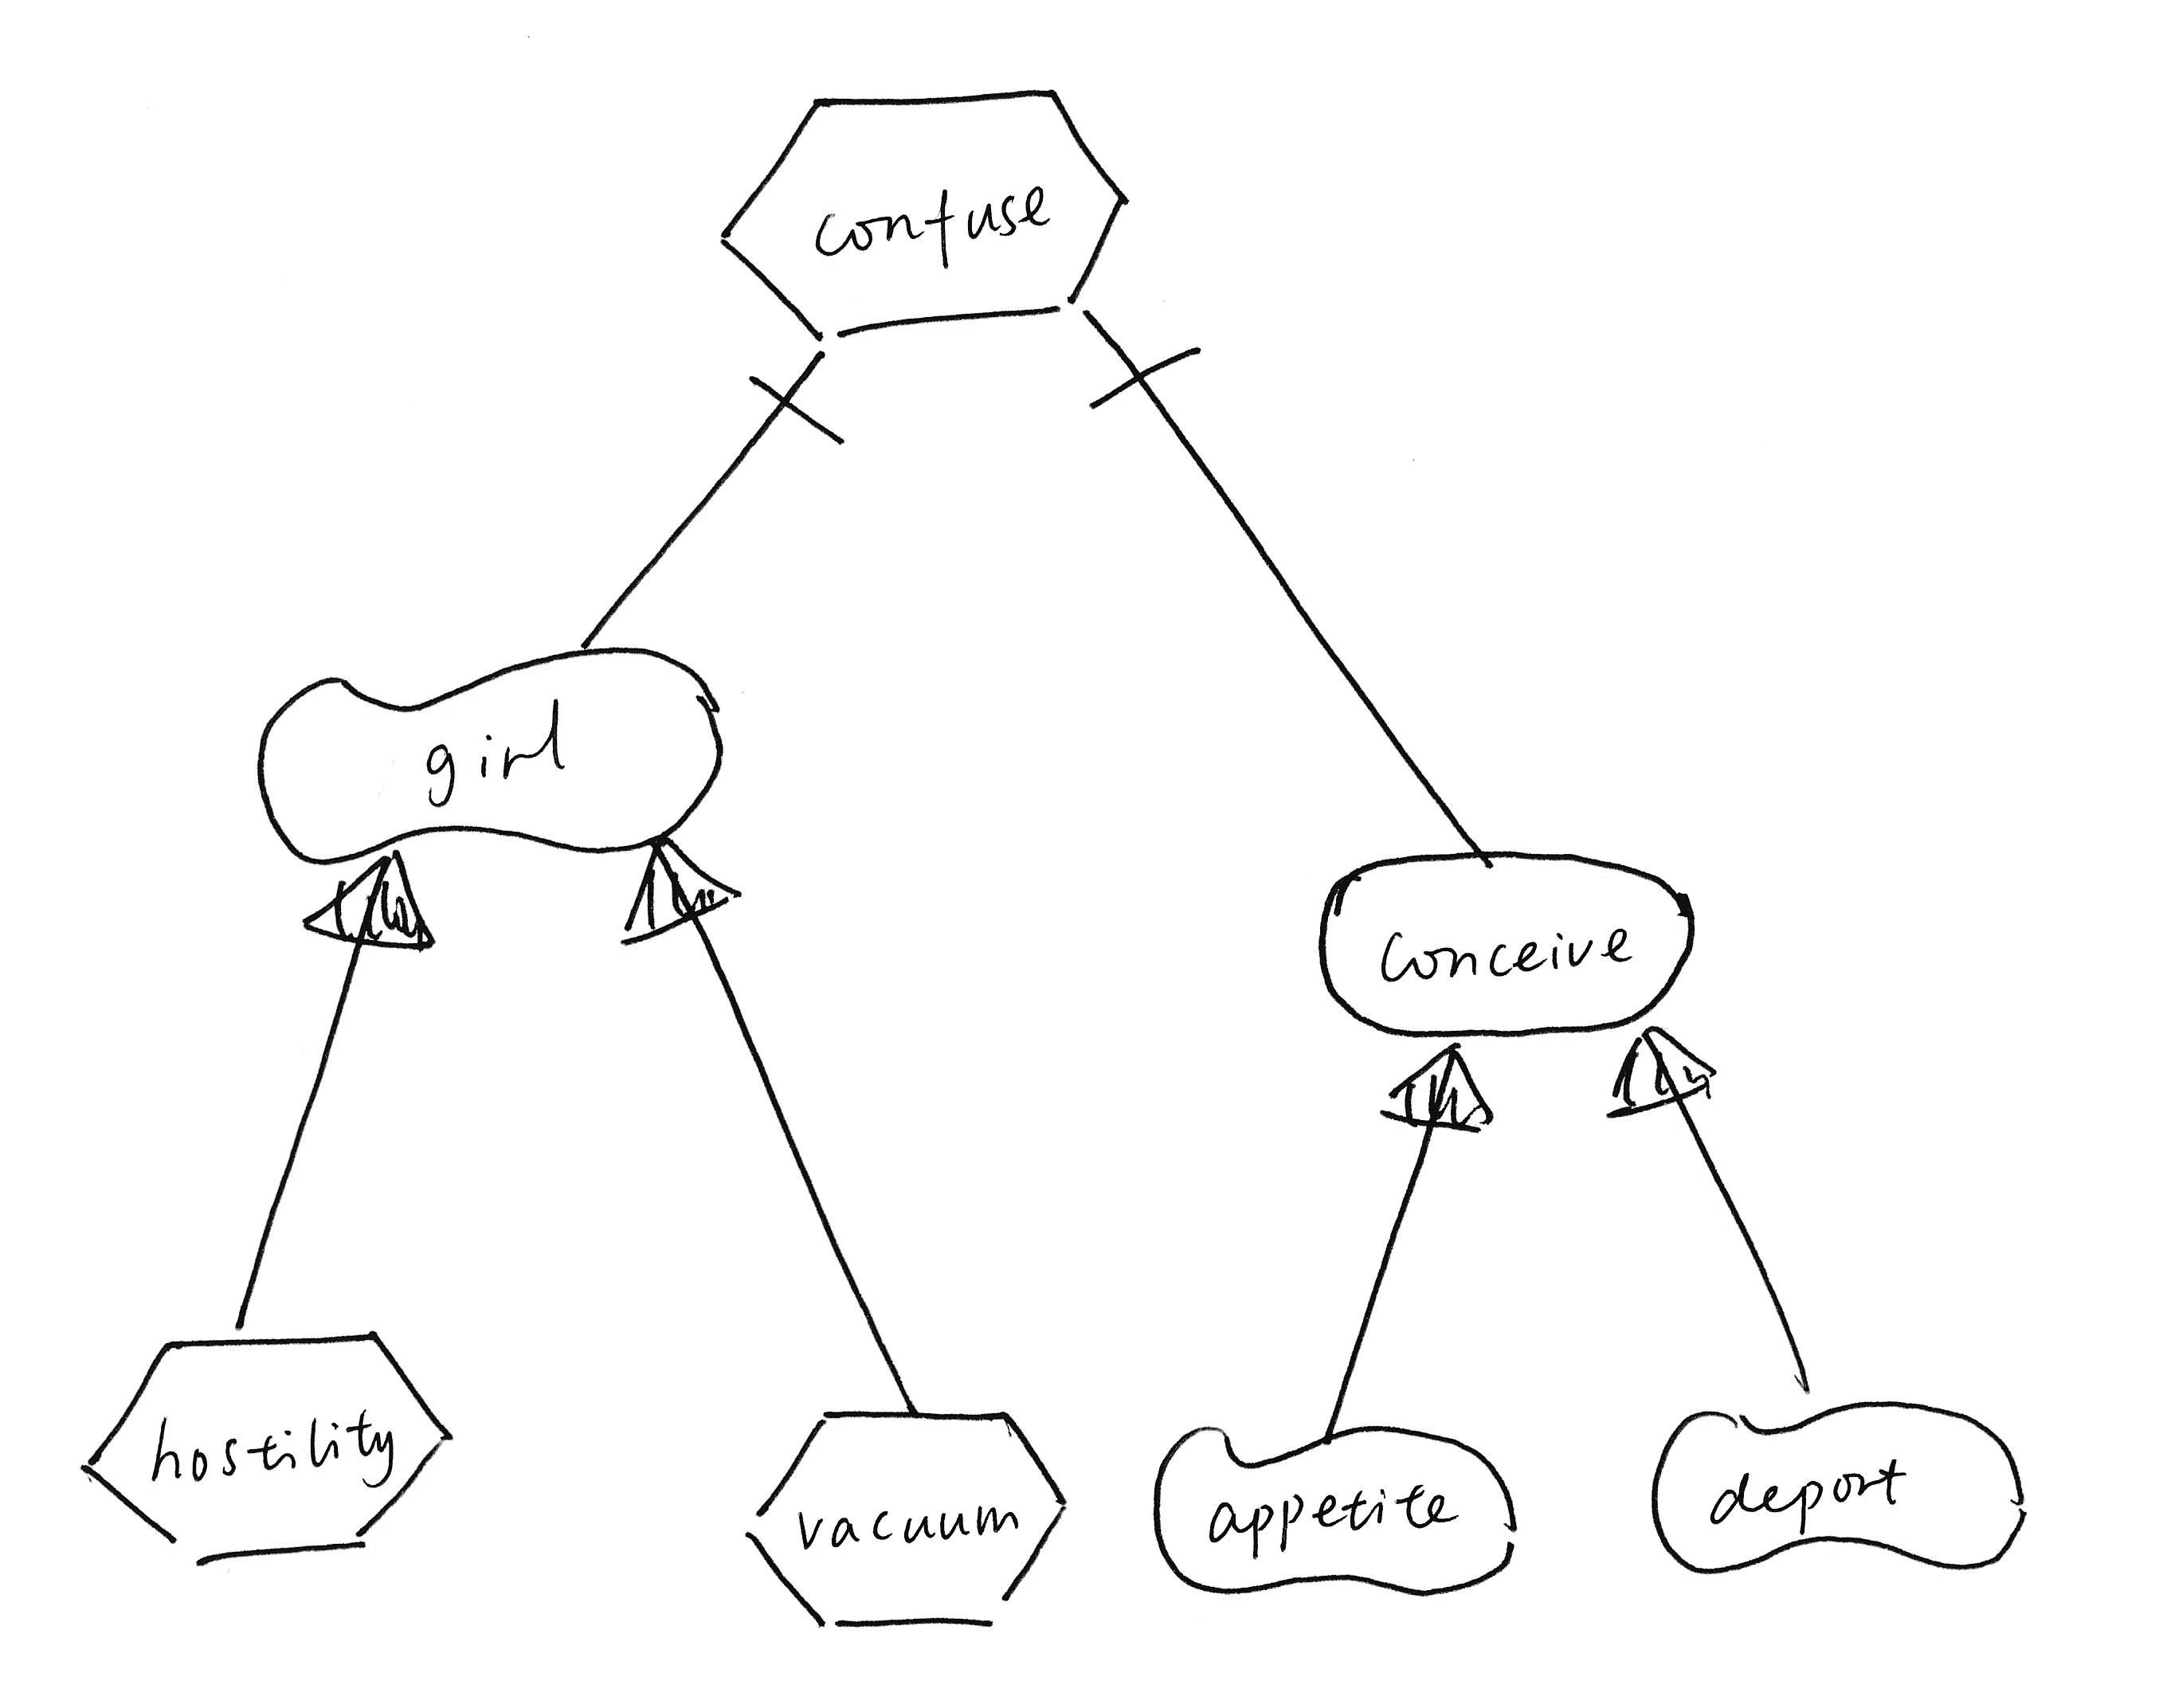and: (725, 349, 859, 476), (1067, 330, 1215, 432)
goal: (1301, 825, 1712, 1062)
or: (604, 827, 757, 964), (291, 844, 451, 971), (1364, 1032, 1508, 1155), (1598, 1022, 1729, 1137)
quality: (249, 630, 744, 874), (1636, 1380, 2044, 1594), (1138, 1411, 1534, 1611)
task: (699, 53, 1146, 355), (56, 1320, 476, 1589), (711, 1385, 1089, 1650)
